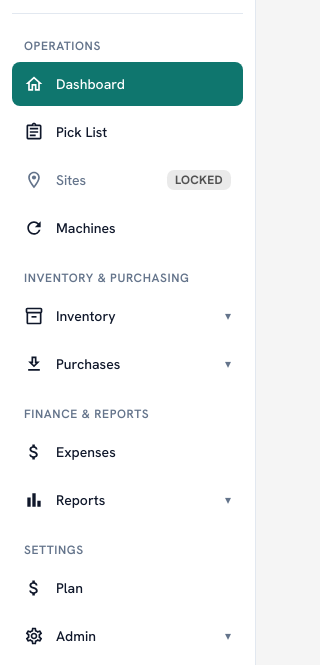
it: SidebarNavComponent provider-locked destinations (issue #729) › hides the Nayax imports and the sale timestamp repair until the connection is usable
What coordinates should you click on to do the following:
click the button "Admin ▾"
I would click on:
 (128, 636)
Its box is [12,614,243,658].
(page scrolled)
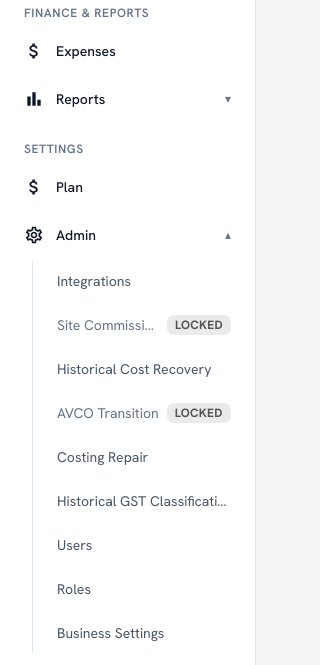
Expected: the text "Integrations" is shown, [57,270,131,292]
